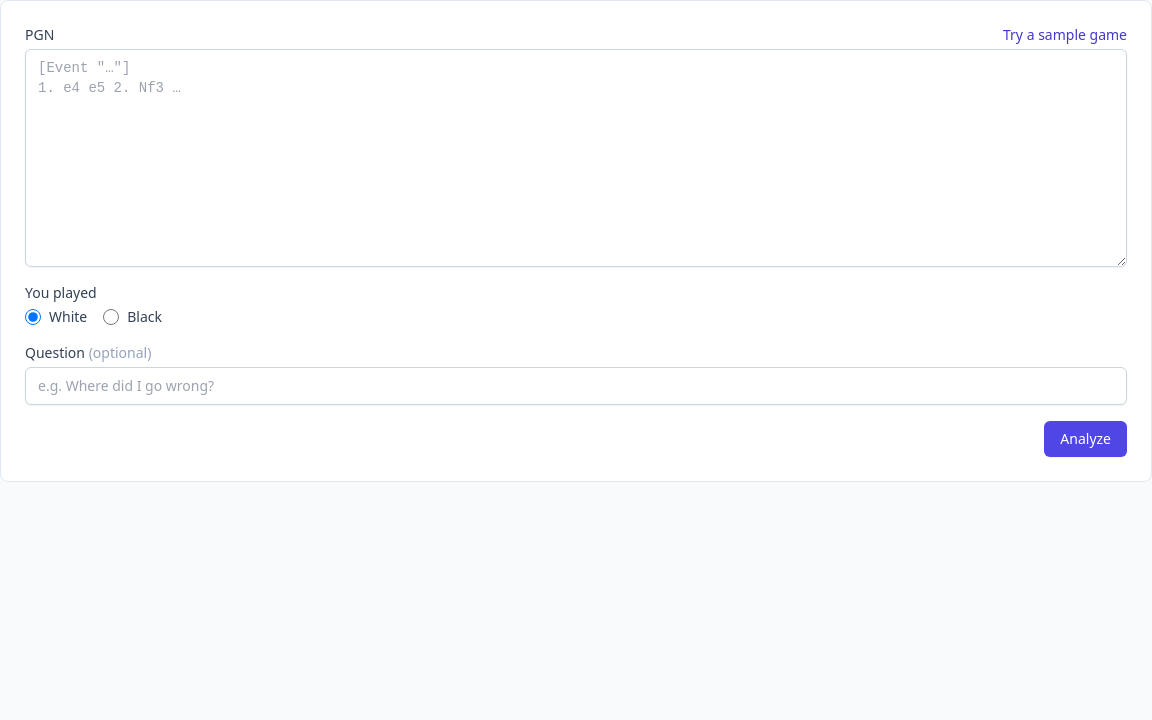
Test: PgnInput › blocks submit on empty PGN with an inline error
The image size is (1152, 720).
Click the button "Analyze": (1086, 439) x1=1044 y1=421 x2=1127 y2=457
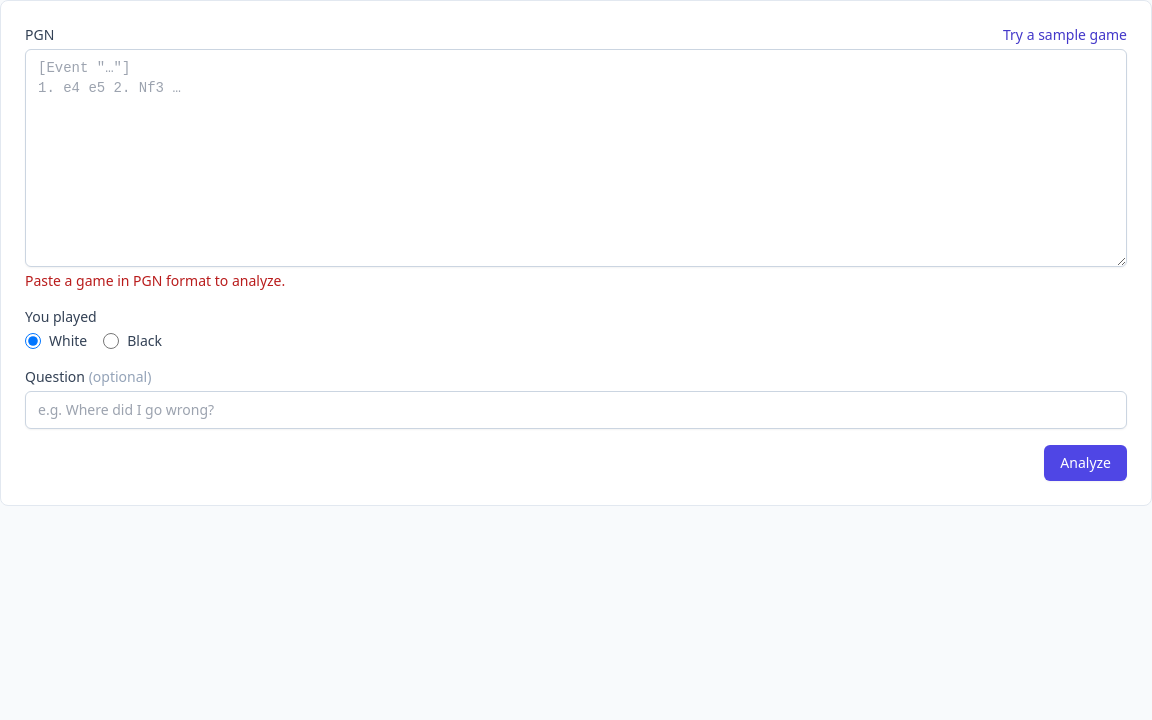
Expected: the text "Paste a game in PGN format to analyze." is shown, x1=25 y1=271 x2=285 y2=290
